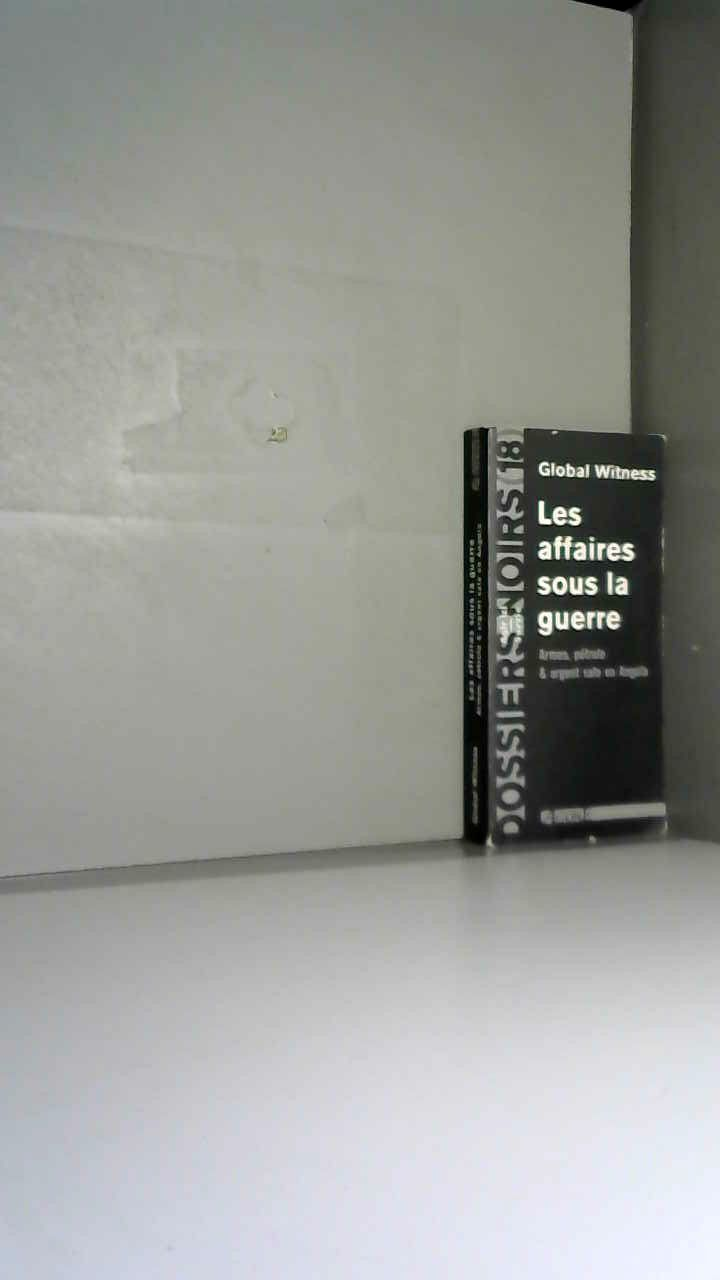book: (440, 400, 720, 883)
